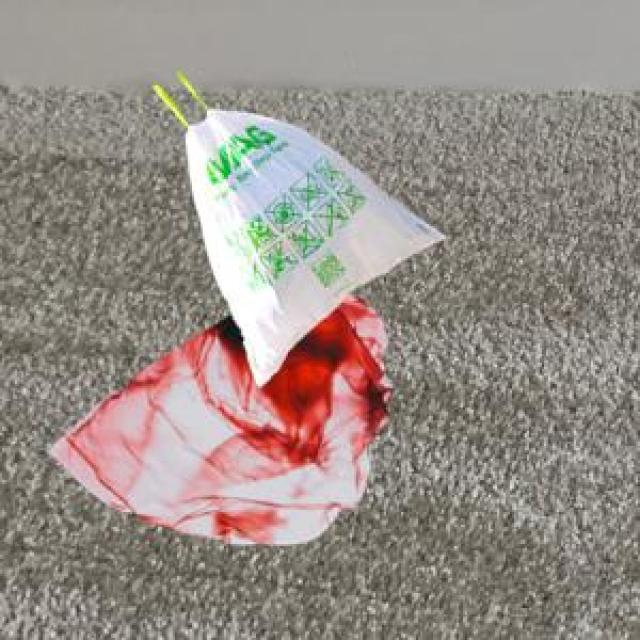waste: (51, 74, 442, 544)
